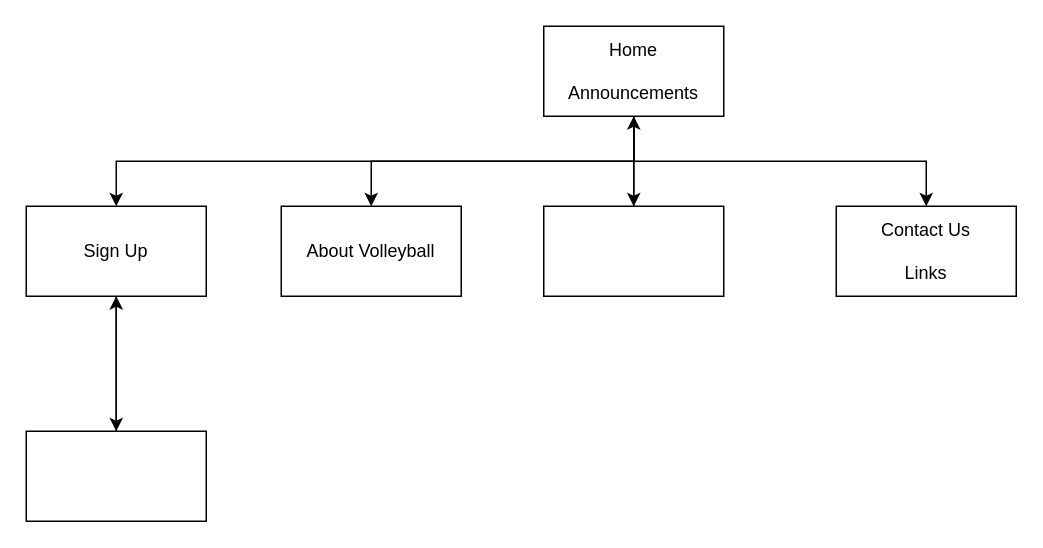
This 1043x548 diagram has some shape labels left out. The centre of each missing label's shape, as x and y in pixels:
"Playing Guidelines" belongs at (115,475).
"Who Can Play?" belongs at (633,250).
